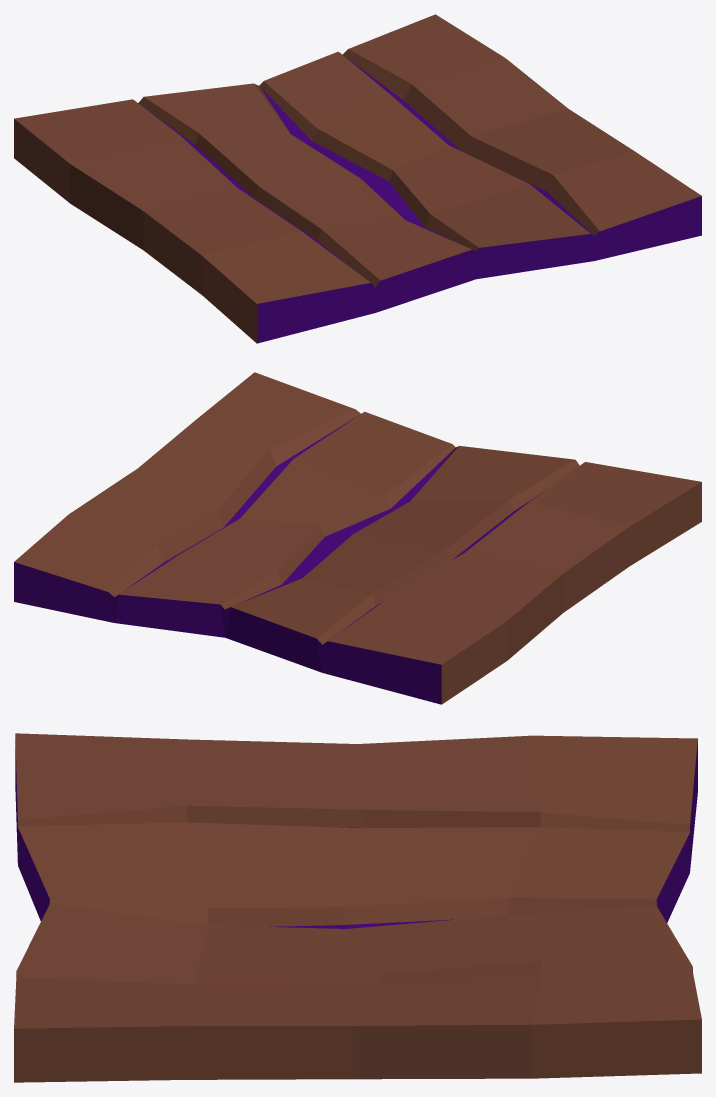
The model's file is woodSeat.glb.
3 renders of one model, top to bottom at view 1: azimuth 30°, elevation 25°; view 2: azimuth 150°, elevation 25°; view 3: azimuth 270°, elevation 25°, orthographic. The views are drawn at different scales.
Visible parts, largest first — view 1: seat; view 2: seat; view 3: seat.
Part boxes in pixels (x1=…): seat: x1=14, y1=14, x2=701, y2=343; seat: x1=14, y1=372, x2=701, y2=704; seat: x1=14, y1=733, x2=701, y2=1082.
Bounding box in the file's own units: 0.4043 × 0.0593 × 0.3981.
